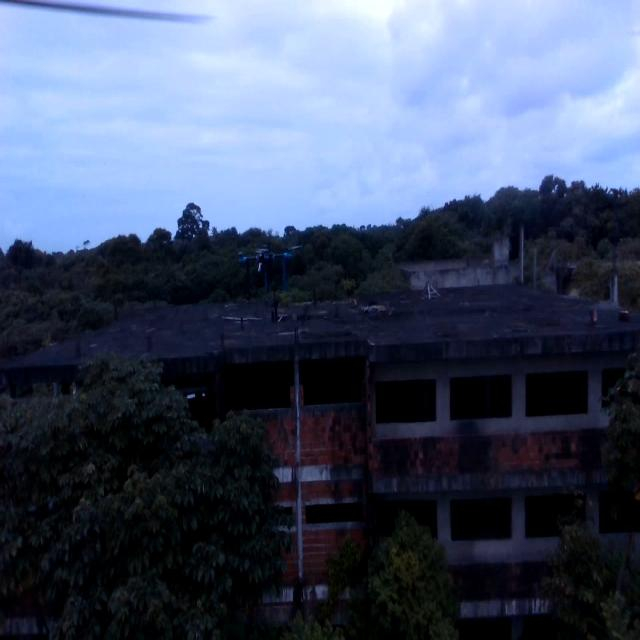-uav-: (240, 219, 297, 311)
